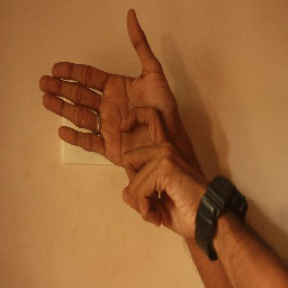R: (36, 8, 198, 217)
